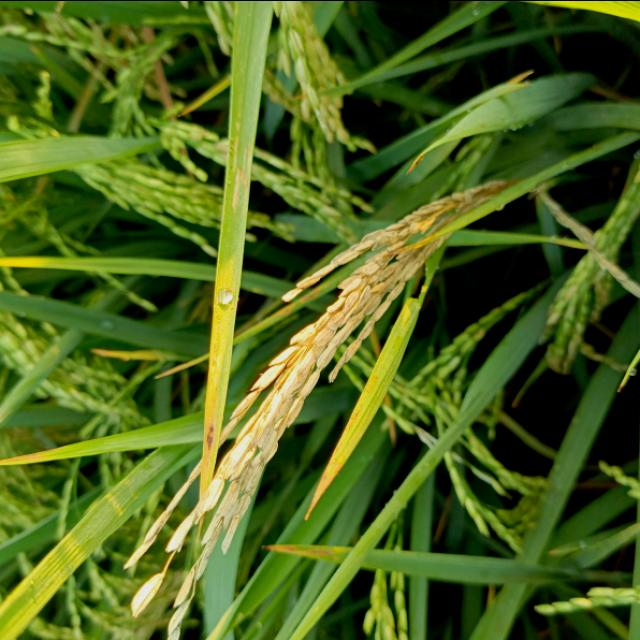Bacterial leaf blight: (221, 108, 250, 214)
Brown spot: (258, 536, 353, 568)
